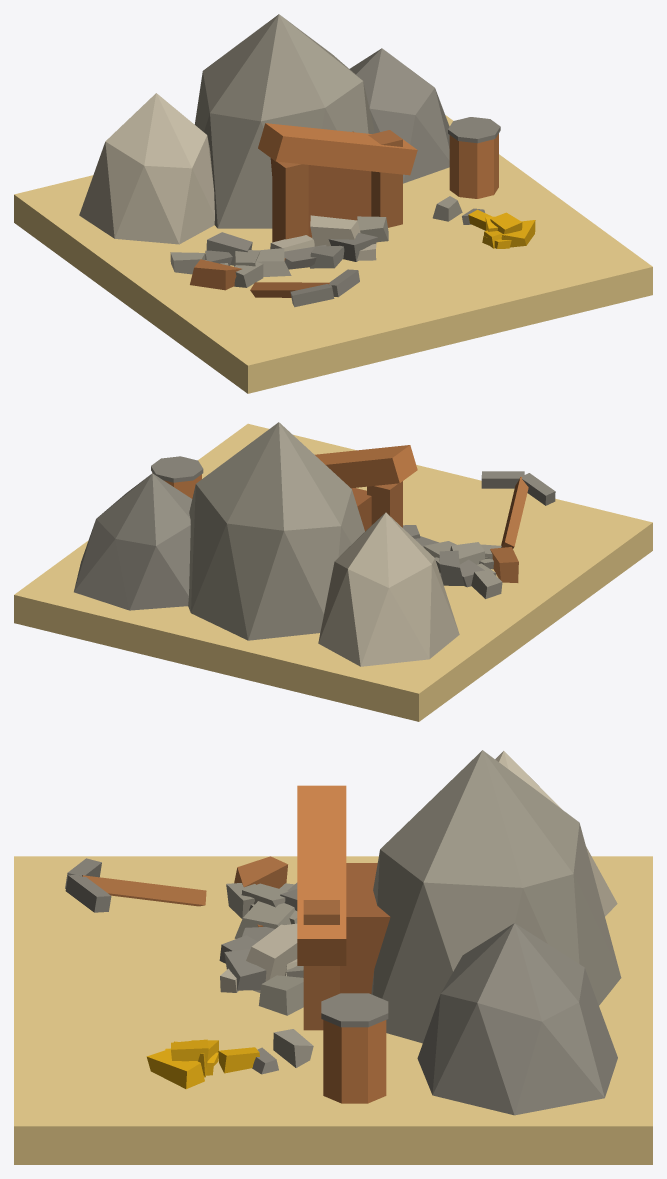
File: mine_t1_v1_dmg1.glb
The picture shows the model from 3 angles, top to bottom: view 1: azimuth 30°, elevation 25°; view 2: azimuth 150°, elevation 25°; view 3: azimuth 270°, elevation 25°; orthographic projection. The views are drawn at different scales.
Parts seen in each view (by area): view 1: mine_t1_v1_dmg1; view 2: mine_t1_v1_dmg1; view 3: mine_t1_v1_dmg1.
Boxes of the visible parts, left/top/right/bottom form: mine_t1_v1_dmg1: left=14, top=14, right=652, bottom=393; mine_t1_v1_dmg1: left=14, top=422, right=652, bottom=721; mine_t1_v1_dmg1: left=14, top=750, right=652, bottom=1164.
Size of the model in its own units: 0.6 by 0.29 by 0.6.
1 material, 1 textured.
